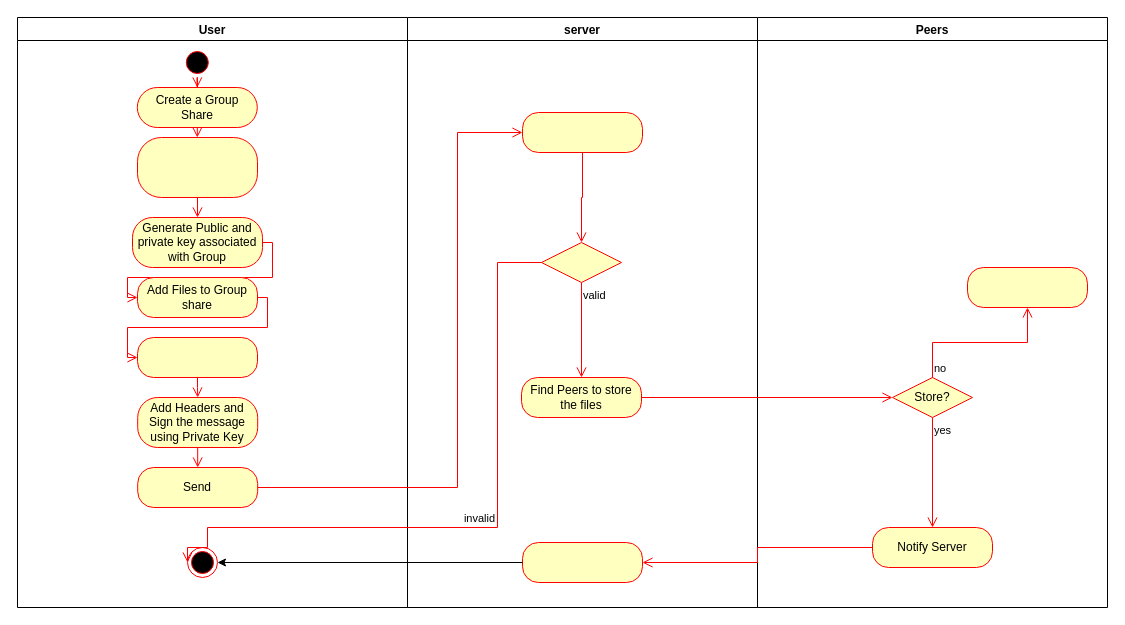
This 1125x625 diagram has some shape labels left out. Here are the shapes that lost their labels. From the top down, the centre of each, then its label:
At point 582,132: "Validate the Signature".
At point 197,167: "Specify Password to restrict access to this photo Group".
At point 1027,287: "Ignore the Message".
At point 197,357: "Encrypt Files Using Public Key".
At point 582,562: "Add Record of file in DataBase".
